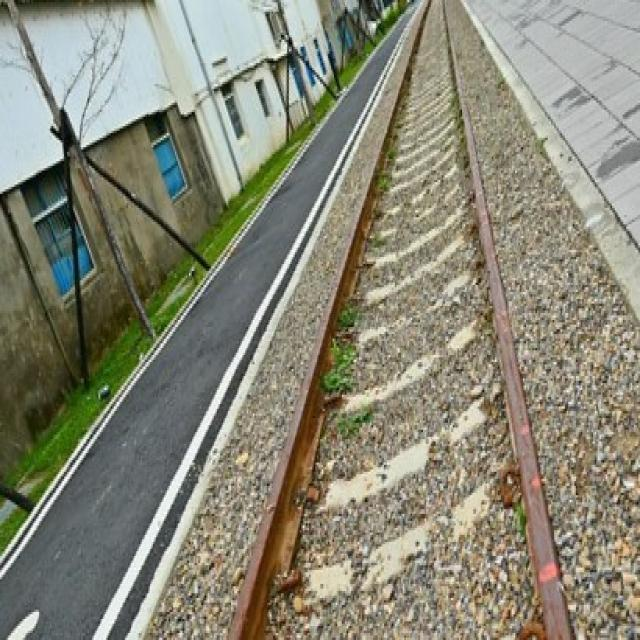rail-track: (265, 1, 529, 639)
